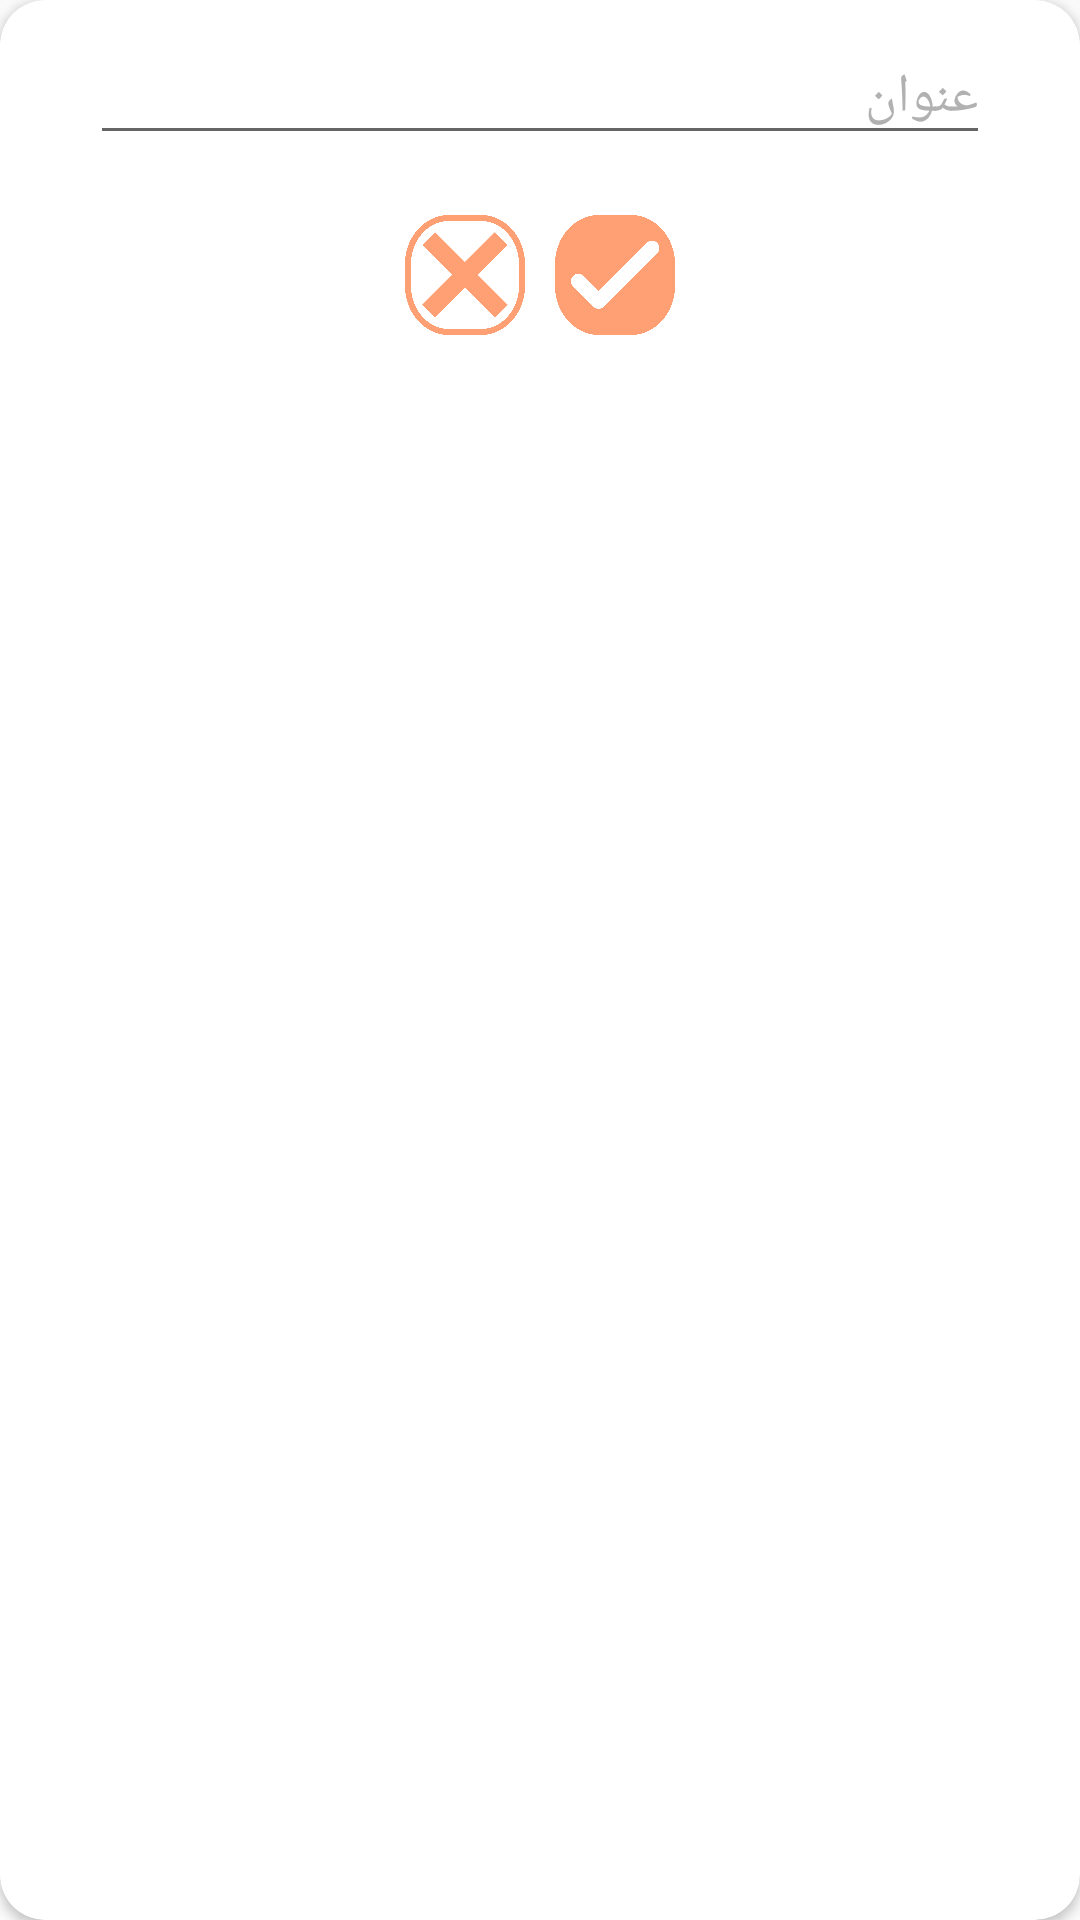

Where to tap for icons on this 1080*1920 app screen, as [x,y]:
cancel: [465,275]
commit mark: [615,275]
